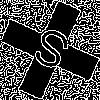S: (25, 25, 74, 82)
